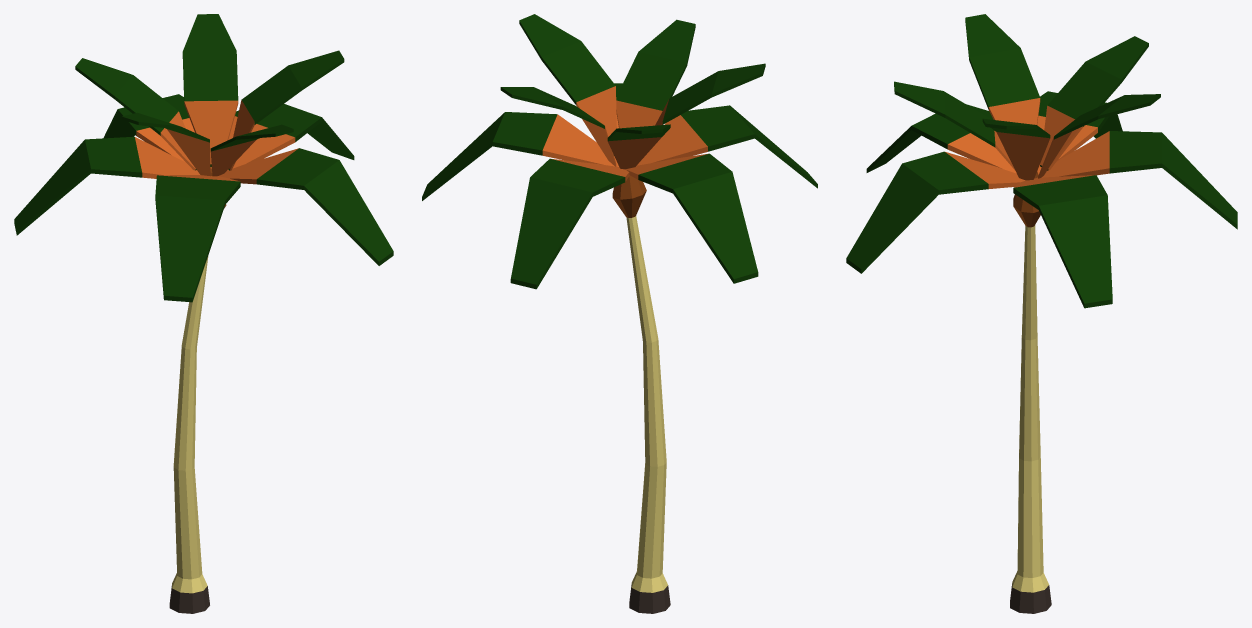
Rendered from Palm_Tree_Autumn.fbx.
3 renders of one model, left to right at view 1: azimuth 30°, elevation 25°; view 2: azimuth 150°, elevation 25°; view 3: azimuth 270°, elevation 25°, orthographic. The views are drawn at different scales.
Parts seen in each view (by area): view 1: Palm_Tree_Autumn; view 2: Palm_Tree_Autumn; view 3: Palm_Tree_Autumn.
Part boxes in pixels (bbox=[...]): Palm_Tree_Autumn: bbox=[14, 14, 393, 613]; Palm_Tree_Autumn: bbox=[422, 14, 817, 613]; Palm_Tree_Autumn: bbox=[846, 14, 1237, 613].
Size of the model in its own units: 359 by 549 by 355.
